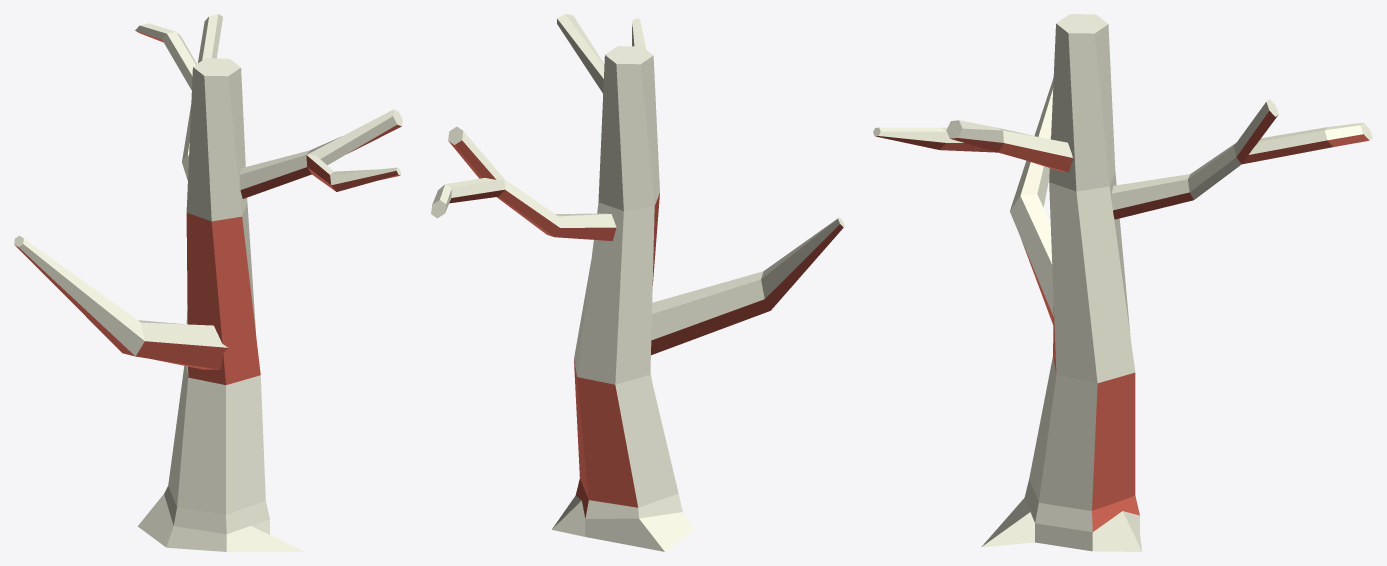
The model's file is Tree5_winter.FBX.
3 views of the same model, side by side, from view 1: azimuth 30°, elevation 25°; view 2: azimuth 150°, elevation 25°; view 3: azimuth 270°, elevation 25° (orthographic). The views are drawn at different scales.
Visible parts, largest first — view 1: Tree 3 autumn.003; view 2: Tree 3 autumn.003; view 3: Tree 3 autumn.003.
Part boxes in pixels (left/top/right/bottom): Tree 3 autumn.003: left=14, top=14, right=402, bottom=551; Tree 3 autumn.003: left=431, top=14, right=844, bottom=551; Tree 3 autumn.003: left=873, top=14, right=1372, bottom=551.
Bounding box in the file's own units: 3.64 × 4.78 × 4.31.
